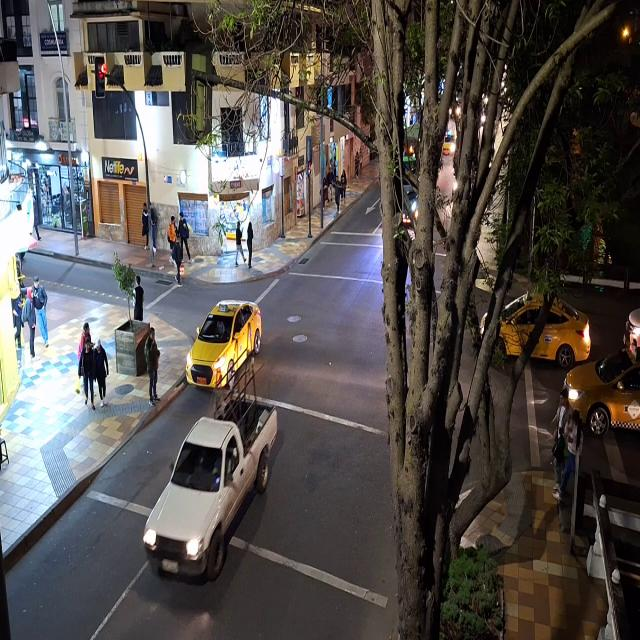CMT: (147, 396, 276, 576)
SED: (480, 297, 590, 361), (564, 354, 640, 429), (190, 305, 253, 386)
